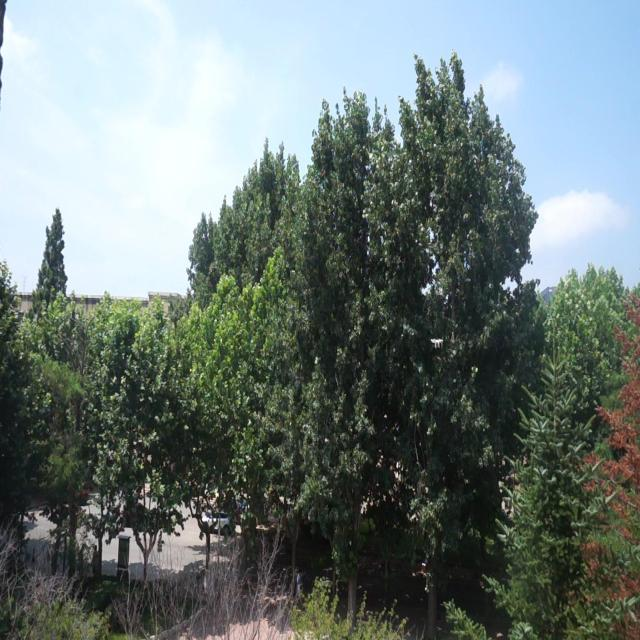drone: (428, 334, 444, 352)
